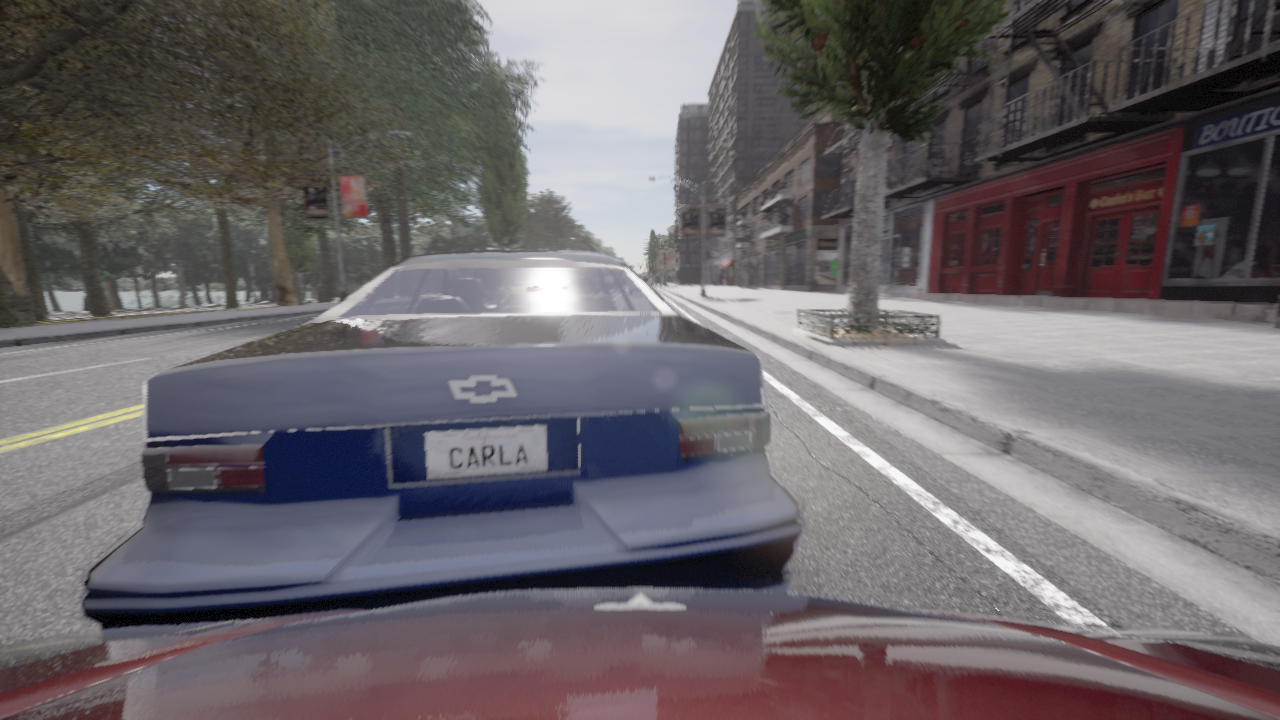cyclist: (79, 249, 806, 629), (0, 588, 1279, 719), (638, 274, 651, 286)
